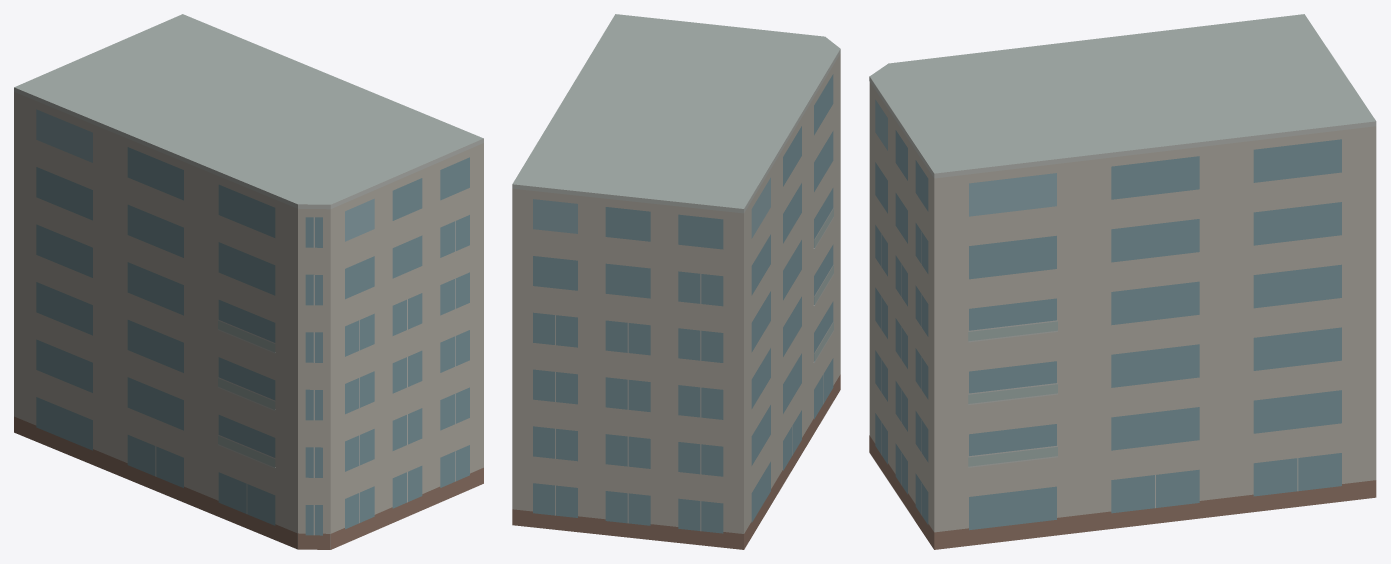
File: survey-upis-32702483.glb
3 renders of one model, left to right at view 1: azimuth 30°, elevation 25°; view 2: azimuth 150°, elevation 25°; view 3: azimuth 270°, elevation 25°, orthographic. The views are drawn at different scales.
Visible parts, largest first — view 1: survey-upis-32702483.tmp; view 2: survey-upis-32702483.tmp; view 3: survey-upis-32702483.tmp.
Part boxes in pixels (box(x1,y1,x2,y2)): survey-upis-32702483.tmp: box(14, 14, 483, 549); survey-upis-32702483.tmp: box(512, 14, 840, 549); survey-upis-32702483.tmp: box(869, 14, 1376, 549).
Bounding box in the file's own units: 17.2 × 18.9 × 23.08.
